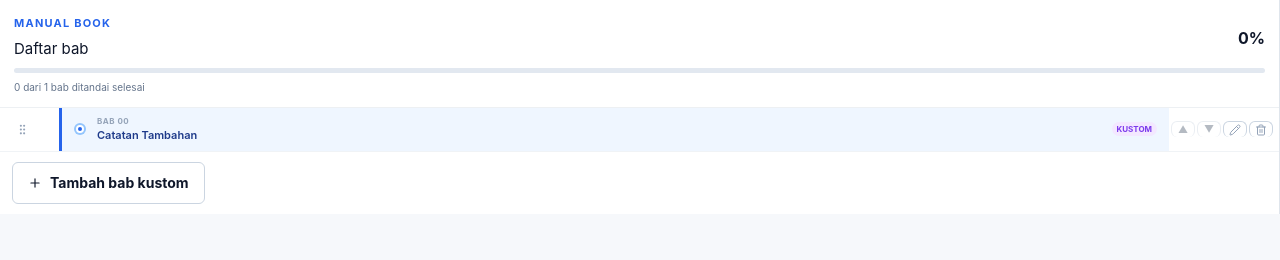
Test case: ChapterNav — delete confirmation › the first click never deletes — it only opens the inline confirmation
Click the button named "Hapus bab Catatan Tambahan": [1261, 129] box [1249,121,1273,137]
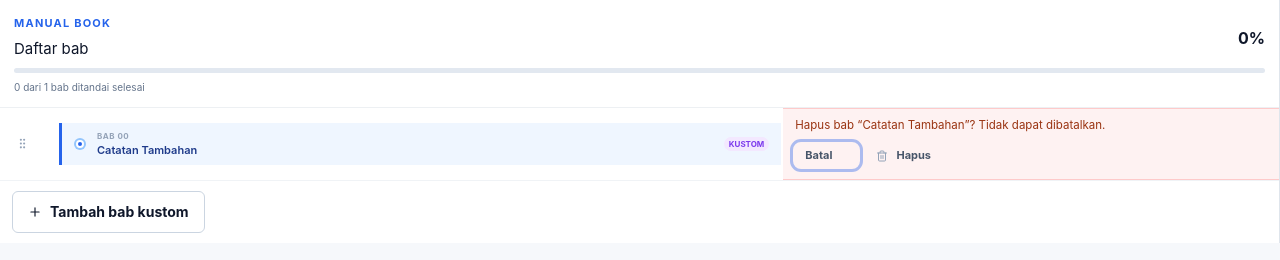
Now the element named "Konfirmasi hapus bab Catatan Tambahan" is shown, box [783,108,1279,180]
